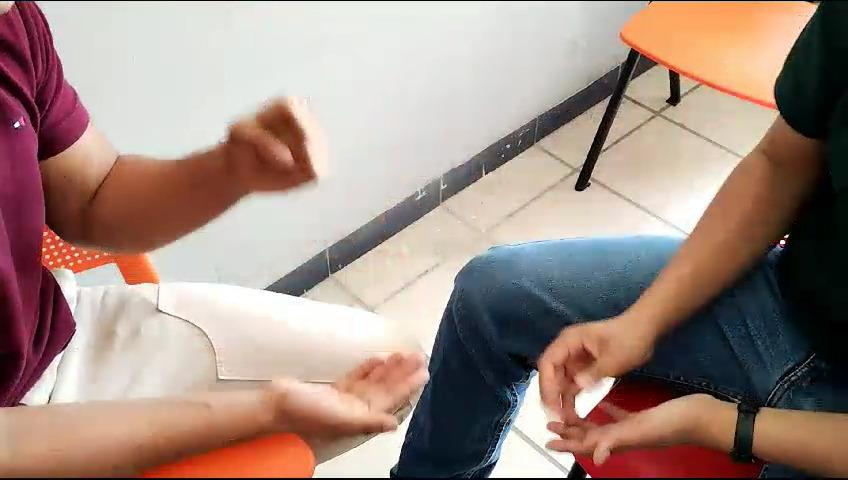Stone: (204, 84, 343, 202)
